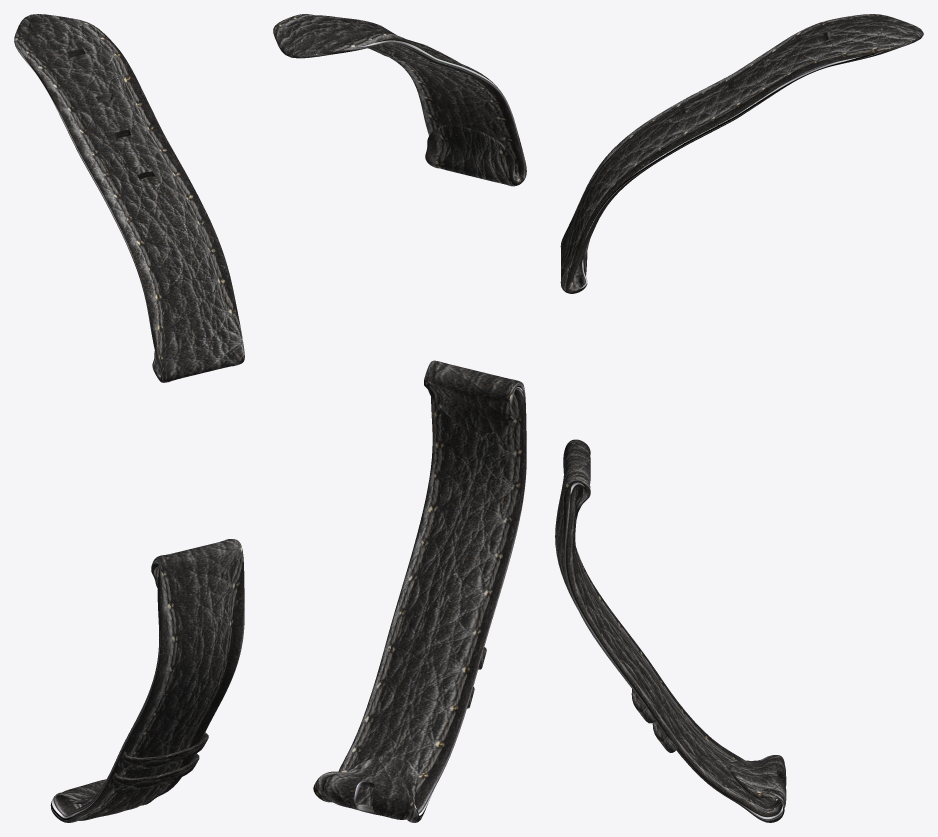
Rendered from DefaultSleeve.gltf.
3 renders of one model, left to right at view 1: azimuth 30°, elevation 25°; view 2: azimuth 150°, elevation 25°; view 3: azimuth 270°, elevation 25°, orthographic. The views are drawn at different scales.
Visible parts, largest first — view 1: StrapUp; view 2: StrapUp; view 3: StrapUp.
Boxes of the visible parts, x1,y1,x2,y2 form: StrapUp: [14, 14, 244, 822]; StrapUp: [273, 14, 526, 822]; StrapUp: [555, 14, 923, 822].
Bounding box in the file's own units: 1.34 × 10.03 × 4.31.
1 material, 1 textured.
